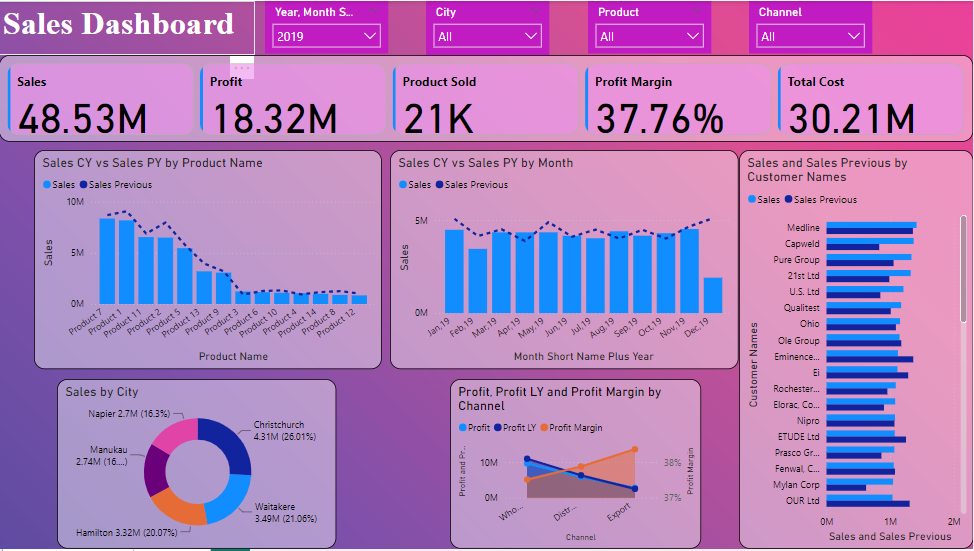

This screenshot's page, from the dashboard's own definition file:
{"tool":"powerbi","page":{"name":"Sales Dashboard","canvas":[1280,720],"ordinal":0},"visuals":[{"type":"slicer","fields":{"Values":["DateTable.Year","DateTable.Month Short Name"]},"box":[349.4,0.4,162,68.9],"z":0},{"type":"slicer","title":"Da","fields":{"Values":["Regions_Table.City"]},"box":[561.6,0,162,70.6],"z":1000},{"type":"slicer","title":"Da","fields":{"Values":["Products_Data.Product Name"]},"box":[773.8,0.4,162,68.9],"z":2000},{"type":"slicer","title":"Da","fields":{"Values":["Sales_Data.Channel"]},"box":[986,0.4,162,68.9],"z":3000},{"type":"lineClusteredColumnComboChart","title":"Sales CY vs Sales PY by Product Name","fields":{"Category":["Products_Data.Product Name"],"Y":["Measure Table.Sales"],"Y2":["Measure Table.Sales Previous"]},"box":[45.4,195.4,456.9,287.7],"z":4000},{"type":"lineClusteredColumnComboChart","title":"Sales CY vs Sales PY by Month","fields":{"Y":["Measure Table.Sales"],"Y2":["Measure Table.Sales Previous"],"Category":["DateTable.Month Short Name Plus Year"]},"box":[513.4,195.4,458.3,287.7],"z":5000},{"type":"textbox","box":[0,0,337,70.9],"z":6000},{"type":"donutChart","fields":{"Y":["Measure Table.Sales"],"Category":["Regions_Table.City"]},"box":[75.7,496.9,367.5,223],"z":7000},{"type":"areaChart","fields":{"Category":["Sales_Data.Channel"],"Y":["Measure Table.Profit","Measure Table.Profit LY"],"Y2":["Measure Table.Profit Margin"]},"box":[593.2,496.9,330.3,223],"z":8000},{"type":"clusteredBarChart","fields":{"Y":["Measure Table.Sales","Measure Table.Sales Previous"],"Category":["Customer_Data.Customer Names"]},"box":[971.7,195.4,308.3,524.4],"z":9000},{"type":"cardVisual","fields":{"Data":["Measure Table.Sales","Measure Table.Profit","Measure Table.Product Sold","Measure Table.Profit Margin","Measure Table.Total Cost"]},"box":[0,71.6,1280,114.2],"z":10000}]}

Visuals, with their boxes in screenshot pixels (x1, y1, x2, y2), scaled from the page's 1280x720 canvas onto the 974x551 screenshot:
slicer - DateTable.Year x DateTable.Month Short Name: <box>266,0,389,53</box>
"Da" slicer: <box>427,0,551,54</box>
"Da" slicer: <box>589,0,712,53</box>
"Da" slicer: <box>750,0,874,53</box>
"Sales CY vs Sales PY by Product Name" lineClusteredColumnComboChart: <box>35,150,382,370</box>
"Sales CY vs Sales PY by Month" lineClusteredColumnComboChart: <box>391,150,739,370</box>
textbox: <box>0,0,256,54</box>
donutChart - Measure Table.Sales x Regions_Table.City: <box>58,380,337,550</box>
areaChart - Sales_Data.Channel x Measure Table.Profit: <box>451,380,703,550</box>
clusteredBarChart - Measure Table.Sales x Measure Table.Sales Previous: <box>739,150,973,550</box>
cardVisual - Measure Table.Sales x Measure Table.Profit: <box>0,55,973,142</box>
